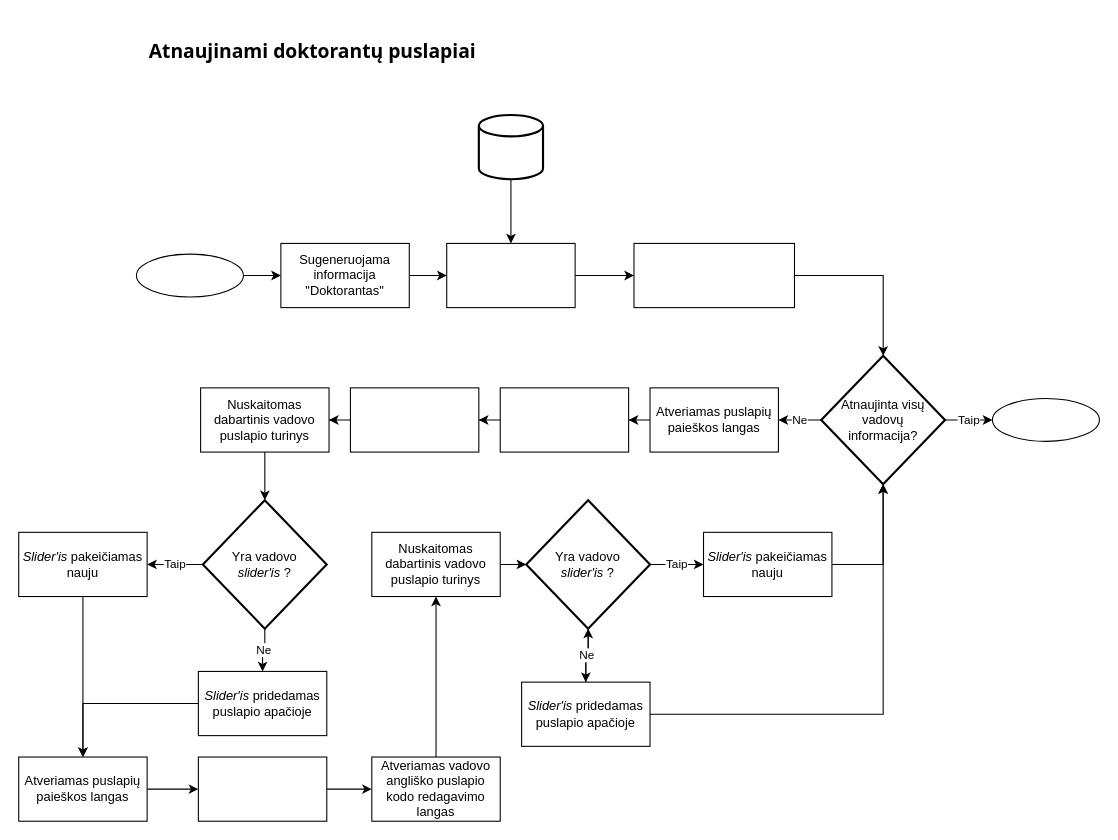
Some shapes in this 1118 by 840 pixel diagram are drawn without their labels. Here are the shapes that lost their labels. From the top down, the centre of each, then its label:
the point at 189,275: Pradžia
the point at 510,275: Nuskaitoma lietuviška ir angliška doktorantų informacija
the point at 713,275: Iš nuskaitytos informacijos pašalinamos pasikartojančios reikšmės
the point at 414,419: Atveriamas vadovo lietuviško puslapio kodo redagavimo langas
the point at 564,419: Ieškoma kito vadovo puslapio pagal pavardę lietuvių kalba
the point at 1045,419: Pabaiga
the point at 262,788: Ieškoma kito vadovo puslapio pagal pavardę anglų kalba
